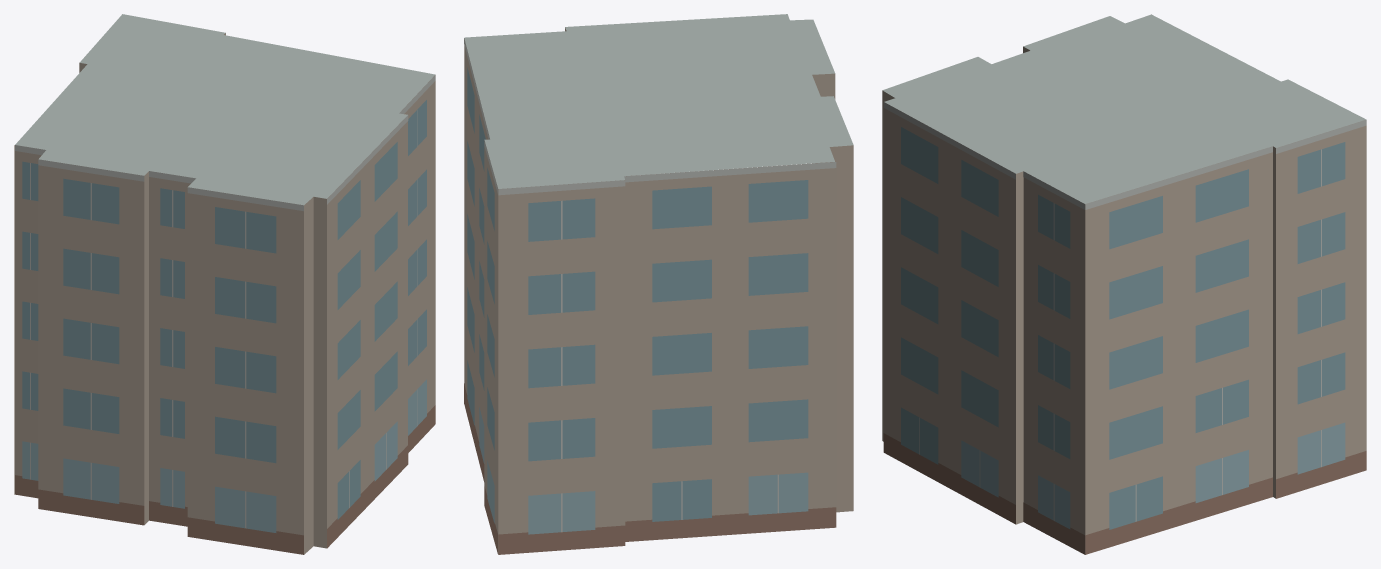
Rendered from survey-upis-32677683.glb.
The picture shows the model from 3 angles, left to right: view 1: azimuth 30°, elevation 25°; view 2: azimuth 150°, elevation 25°; view 3: azimuth 270°, elevation 25°; orthographic projection. The views are drawn at different scales.
Parts seen in each view (by area): view 1: survey-upis-32677683.tmp; view 2: survey-upis-32677683.tmp; view 3: survey-upis-32677683.tmp.
Boxes of the visible parts, x1,y1,x2,y2 form: survey-upis-32677683.tmp: (14, 14, 435, 554); survey-upis-32677683.tmp: (464, 14, 853, 554); survey-upis-32677683.tmp: (882, 14, 1366, 554).
Size of the model in its own units: 16.63 by 14.3 by 17.9.
